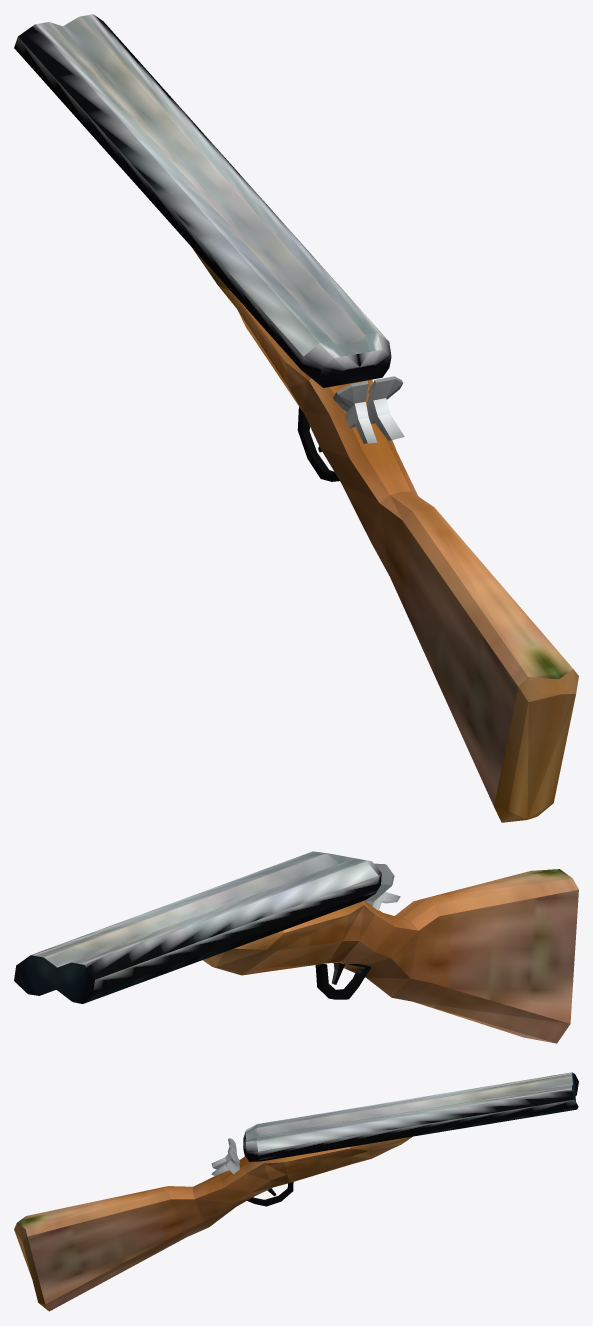
Rendered from shoot0004.obj.
3 renders of one model, top to bottom at view 1: azimuth 30°, elevation 25°; view 2: azimuth 150°, elevation 25°; view 3: azimuth 270°, elevation 25°, orthographic. The views are drawn at different scales.
Parts seen in each view (by area): view 1: Cube, Cube.001, Cube.003; view 2: Cube, Cube.001, Cube.002, Cube.003; view 3: Cube, Cube.001, Cube.003, Cube.002.
Boxes of the visible parts, <box> form: Cube: <box>192,248,578,822</box>; Cube.001: <box>14,14,391,387</box>; Cube.003: <box>333,376,404,443</box>; Cube: <box>203,869,578,1043</box>; Cube.001: <box>14,851,381,1003</box>; Cube.002: <box>315,962,371,999</box>; Cube.003: <box>365,863,400,910</box>; Cube: <box>14,1136,412,1311</box>; Cube.001: <box>243,1072,578,1161</box>; Cube.003: <box>211,1138,239,1175</box>; Cube.002: <box>247,1182,293,1206</box>.
Bounding box in the file's own units: 0.2477 × 1.01 × 2.19.
1 material, 1 textured.
